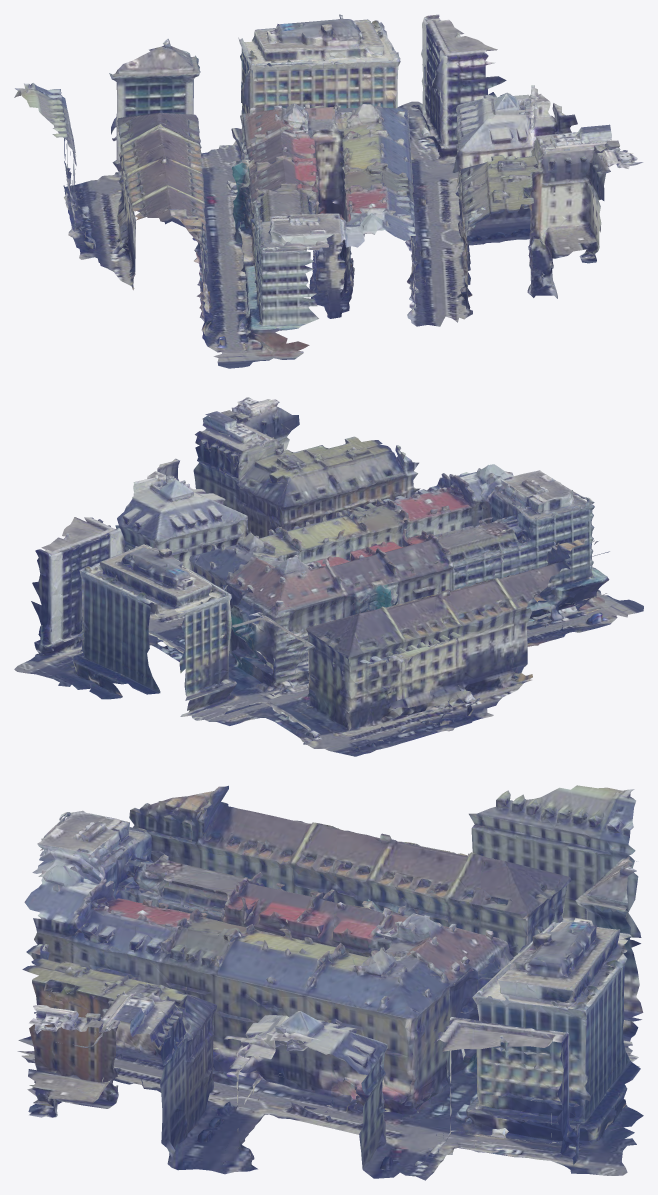
The picture shows the model from 3 angles, top to bottom: view 1: azimuth 30°, elevation 25°; view 2: azimuth 150°, elevation 25°; view 3: azimuth 270°, elevation 25°; orthographic projection. The views are drawn at different scales.
Size of the model in its own units: 109 by 31.51 by 108.
1 material, 1 textured.
